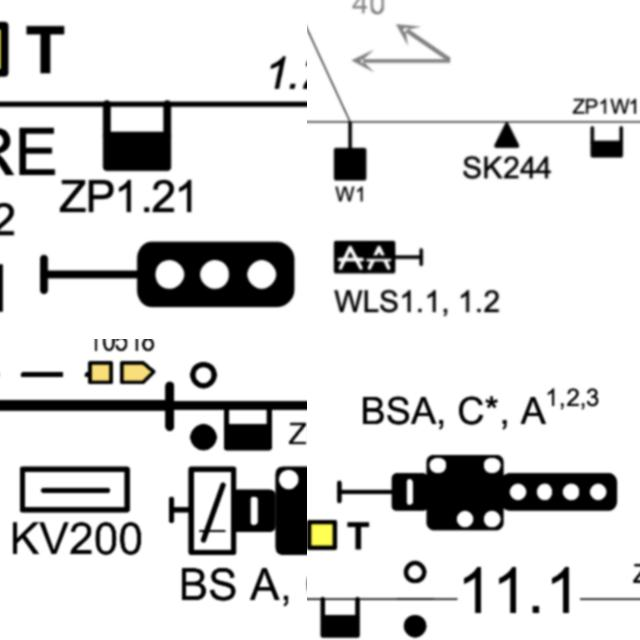mainsignal: (29, 233, 304, 319)
radzaehler: (98, 97, 174, 175), (218, 394, 282, 456), (308, 587, 370, 640), (586, 118, 632, 162)
tracknumber: (455, 556, 585, 628)
weiche: (326, 110, 376, 188)
